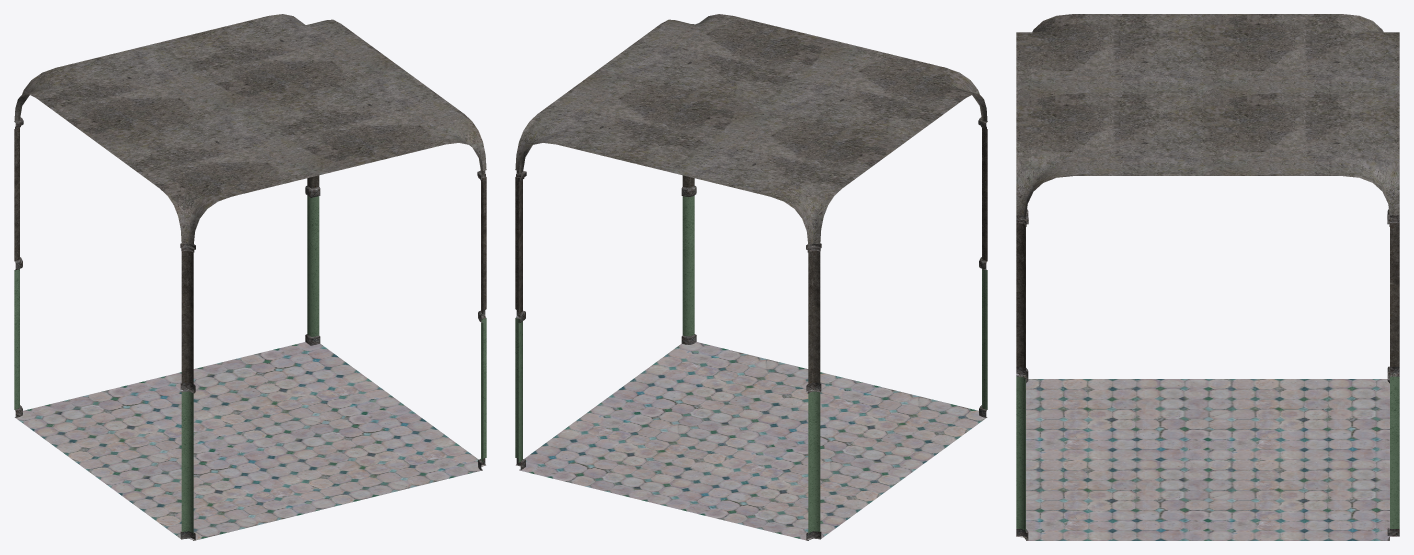
Rendered from CorridorBlockFourSide.FBX.
3 renders of one model, left to right at view 1: azimuth 30°, elevation 25°; view 2: azimuth 150°, elevation 25°; view 3: azimuth 270°, elevation 25°, orthographic. The views are drawn at different scales.
Visible parts, largest first — view 1: FourSide; view 2: FourSide; view 3: FourSide.
Boxes of the visible parts, x1,y1,x2,y2 form: FourSide: [14, 14, 486, 540]; FourSide: [515, 14, 987, 540]; FourSide: [1016, 14, 1399, 540].
Size of the model in its own units: 78.74 by 82.67 by 78.74.
